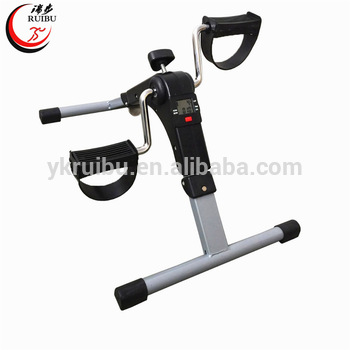gym_bike: (33, 11, 313, 318)
